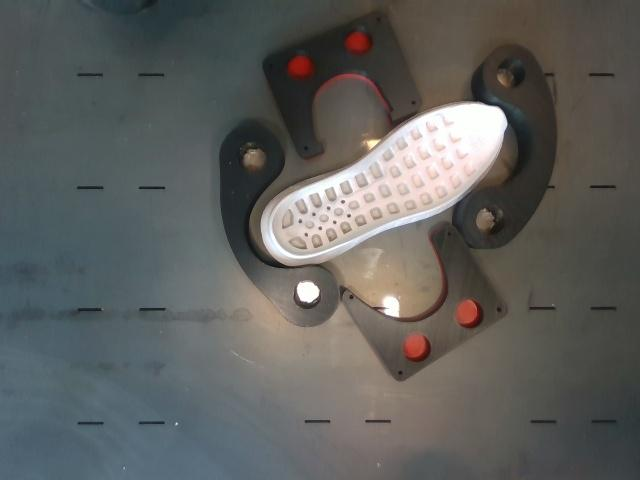shoes: (272, 105, 506, 256)
